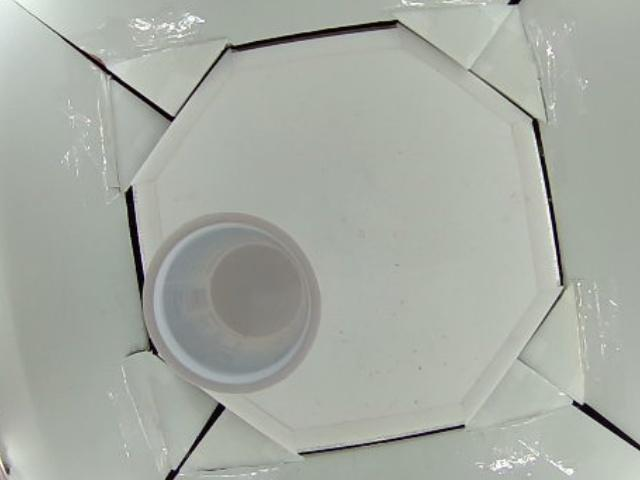Cup: (142, 211, 324, 393)
